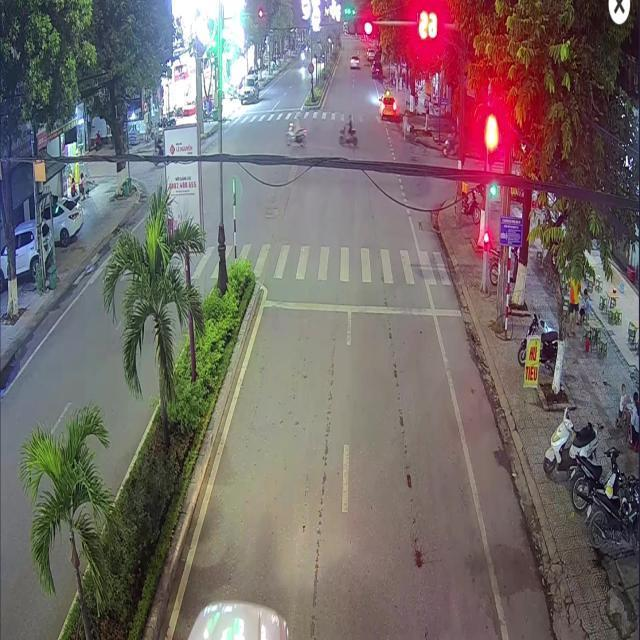car: (187, 600, 288, 638), (378, 89, 396, 117)
motobike: (285, 121, 305, 145), (338, 123, 357, 145)
red_light: (346, 15, 373, 36), (486, 132, 495, 168), (483, 231, 487, 250)
stop_line: (263, 299, 460, 315)
